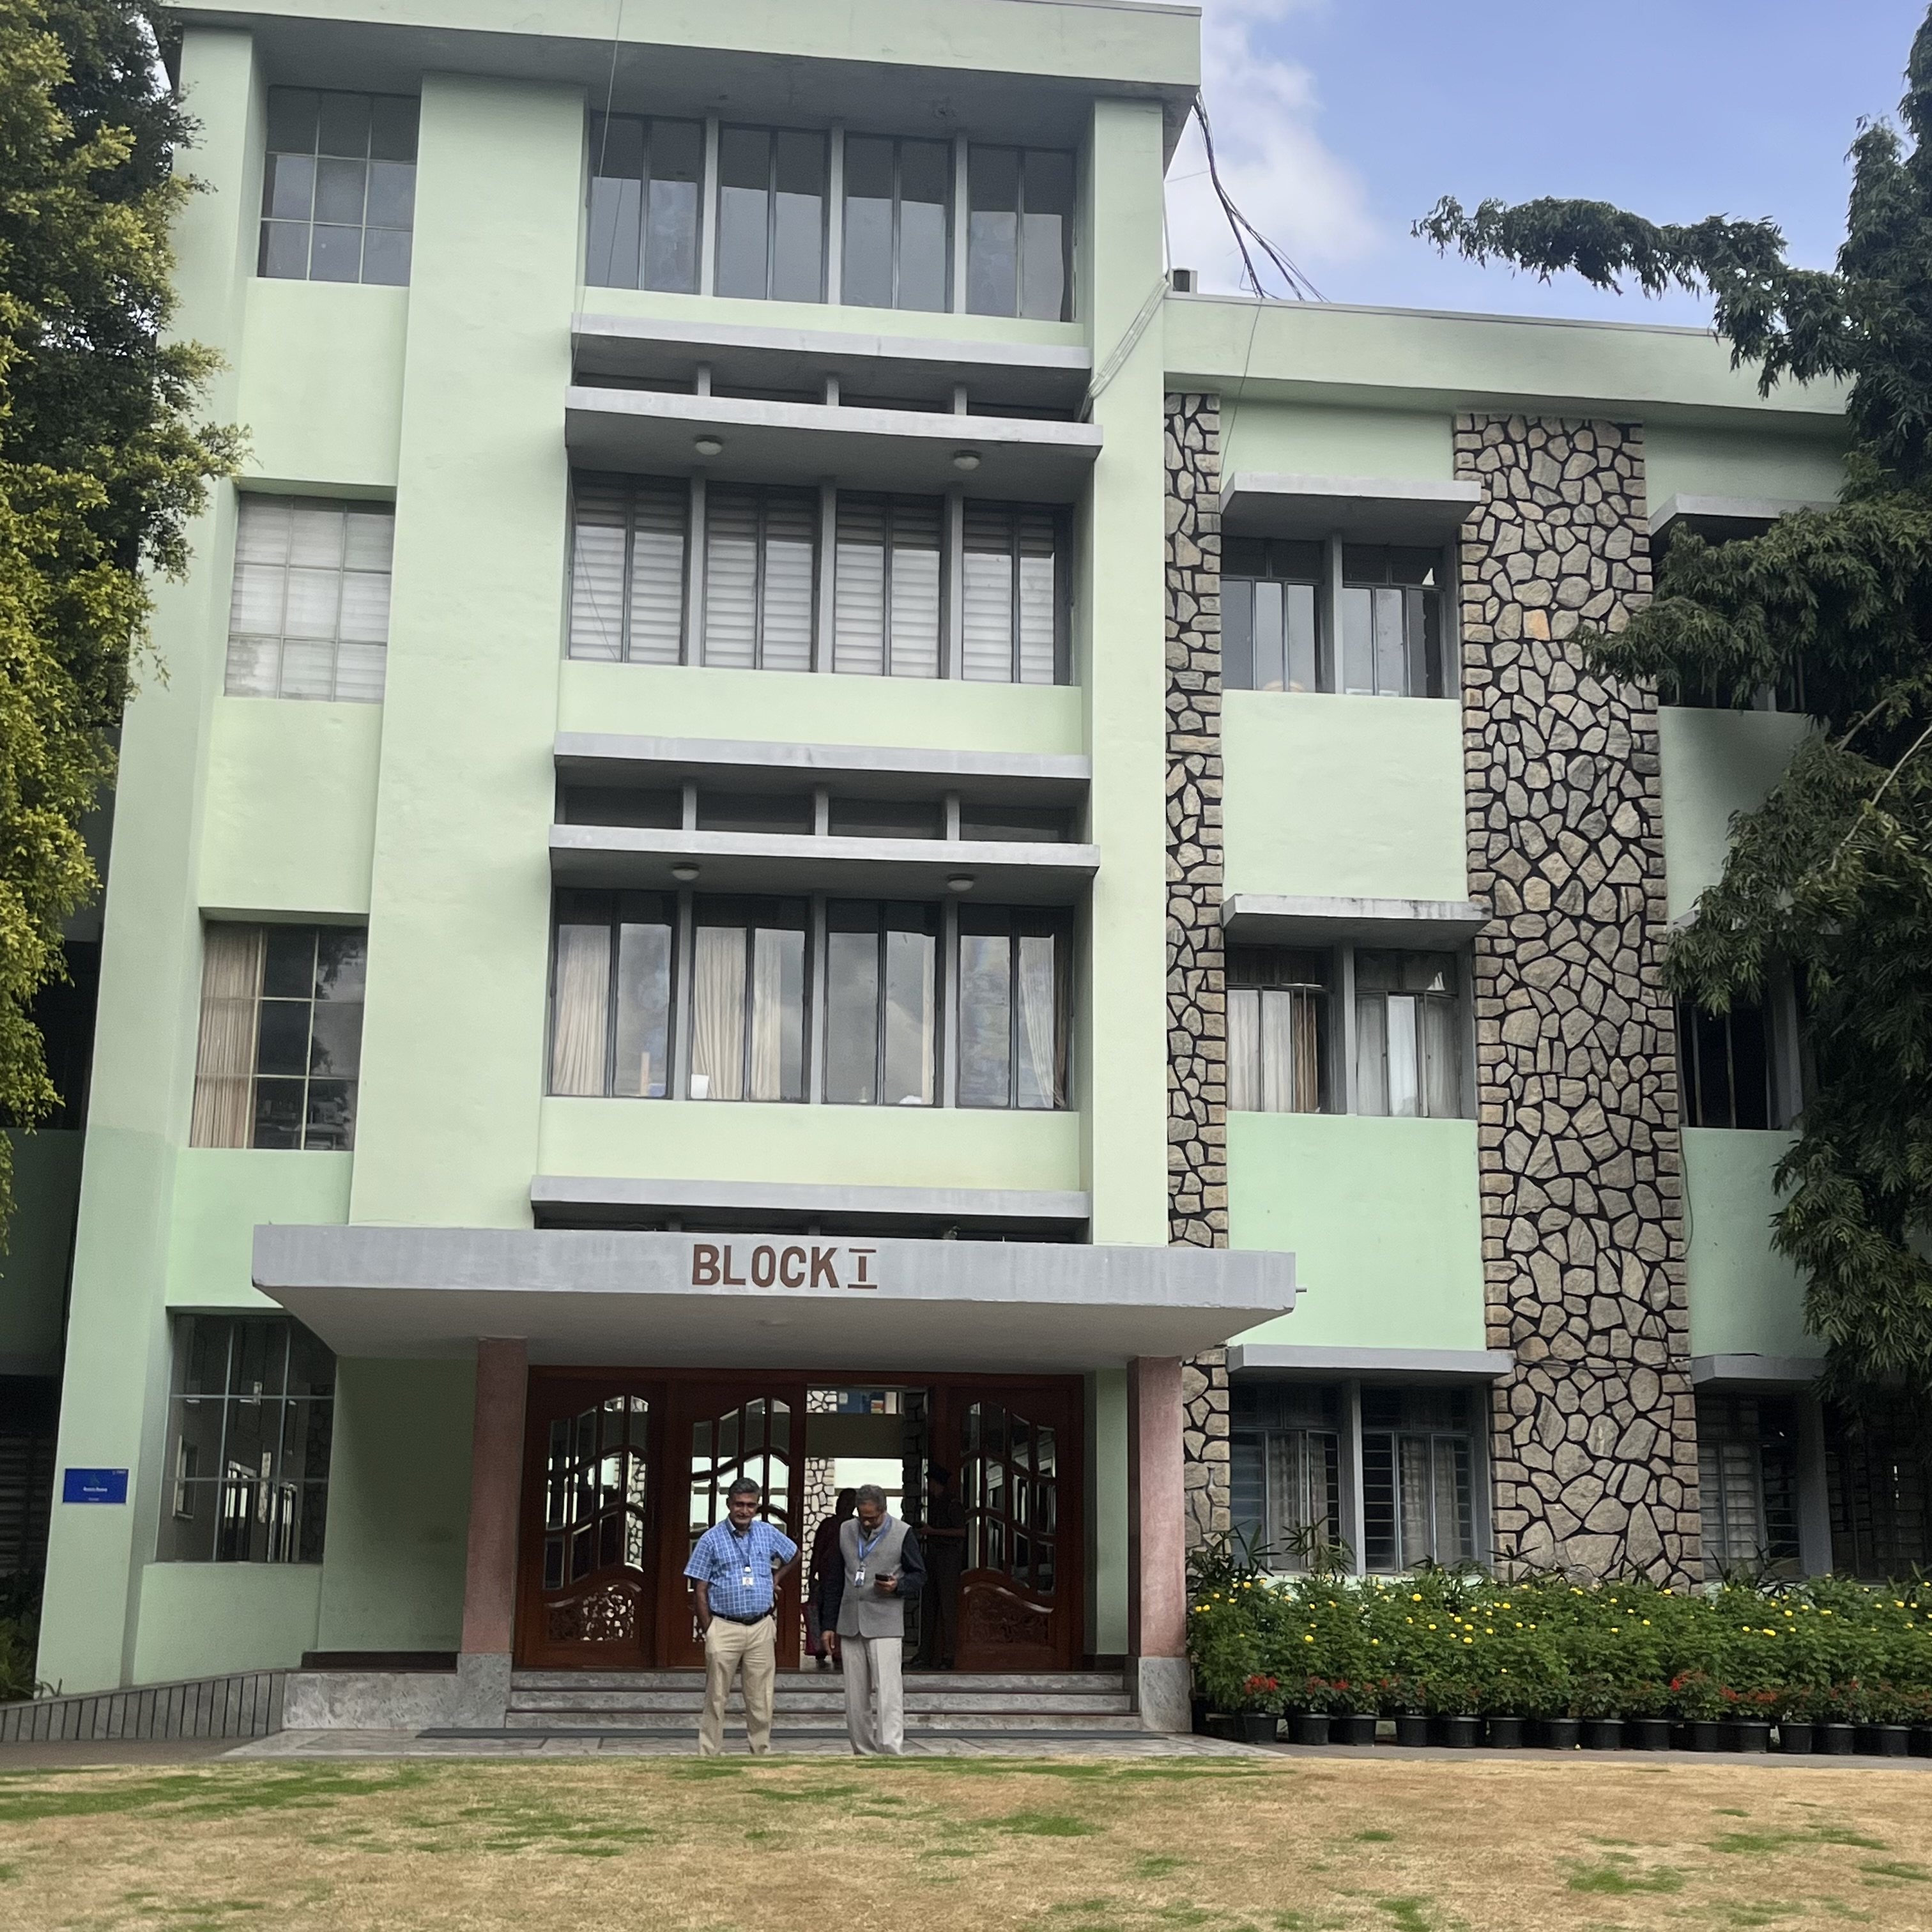Block 1: (149, 12, 1762, 1679)
